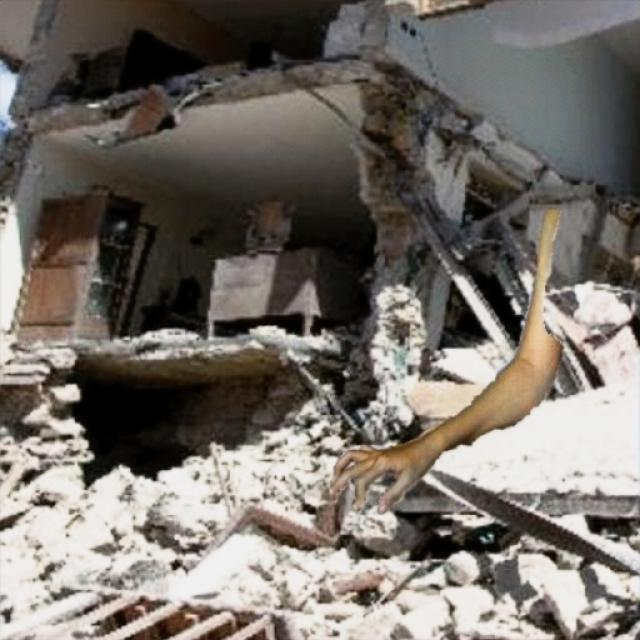Person in Rubble: (332, 210, 562, 514)
